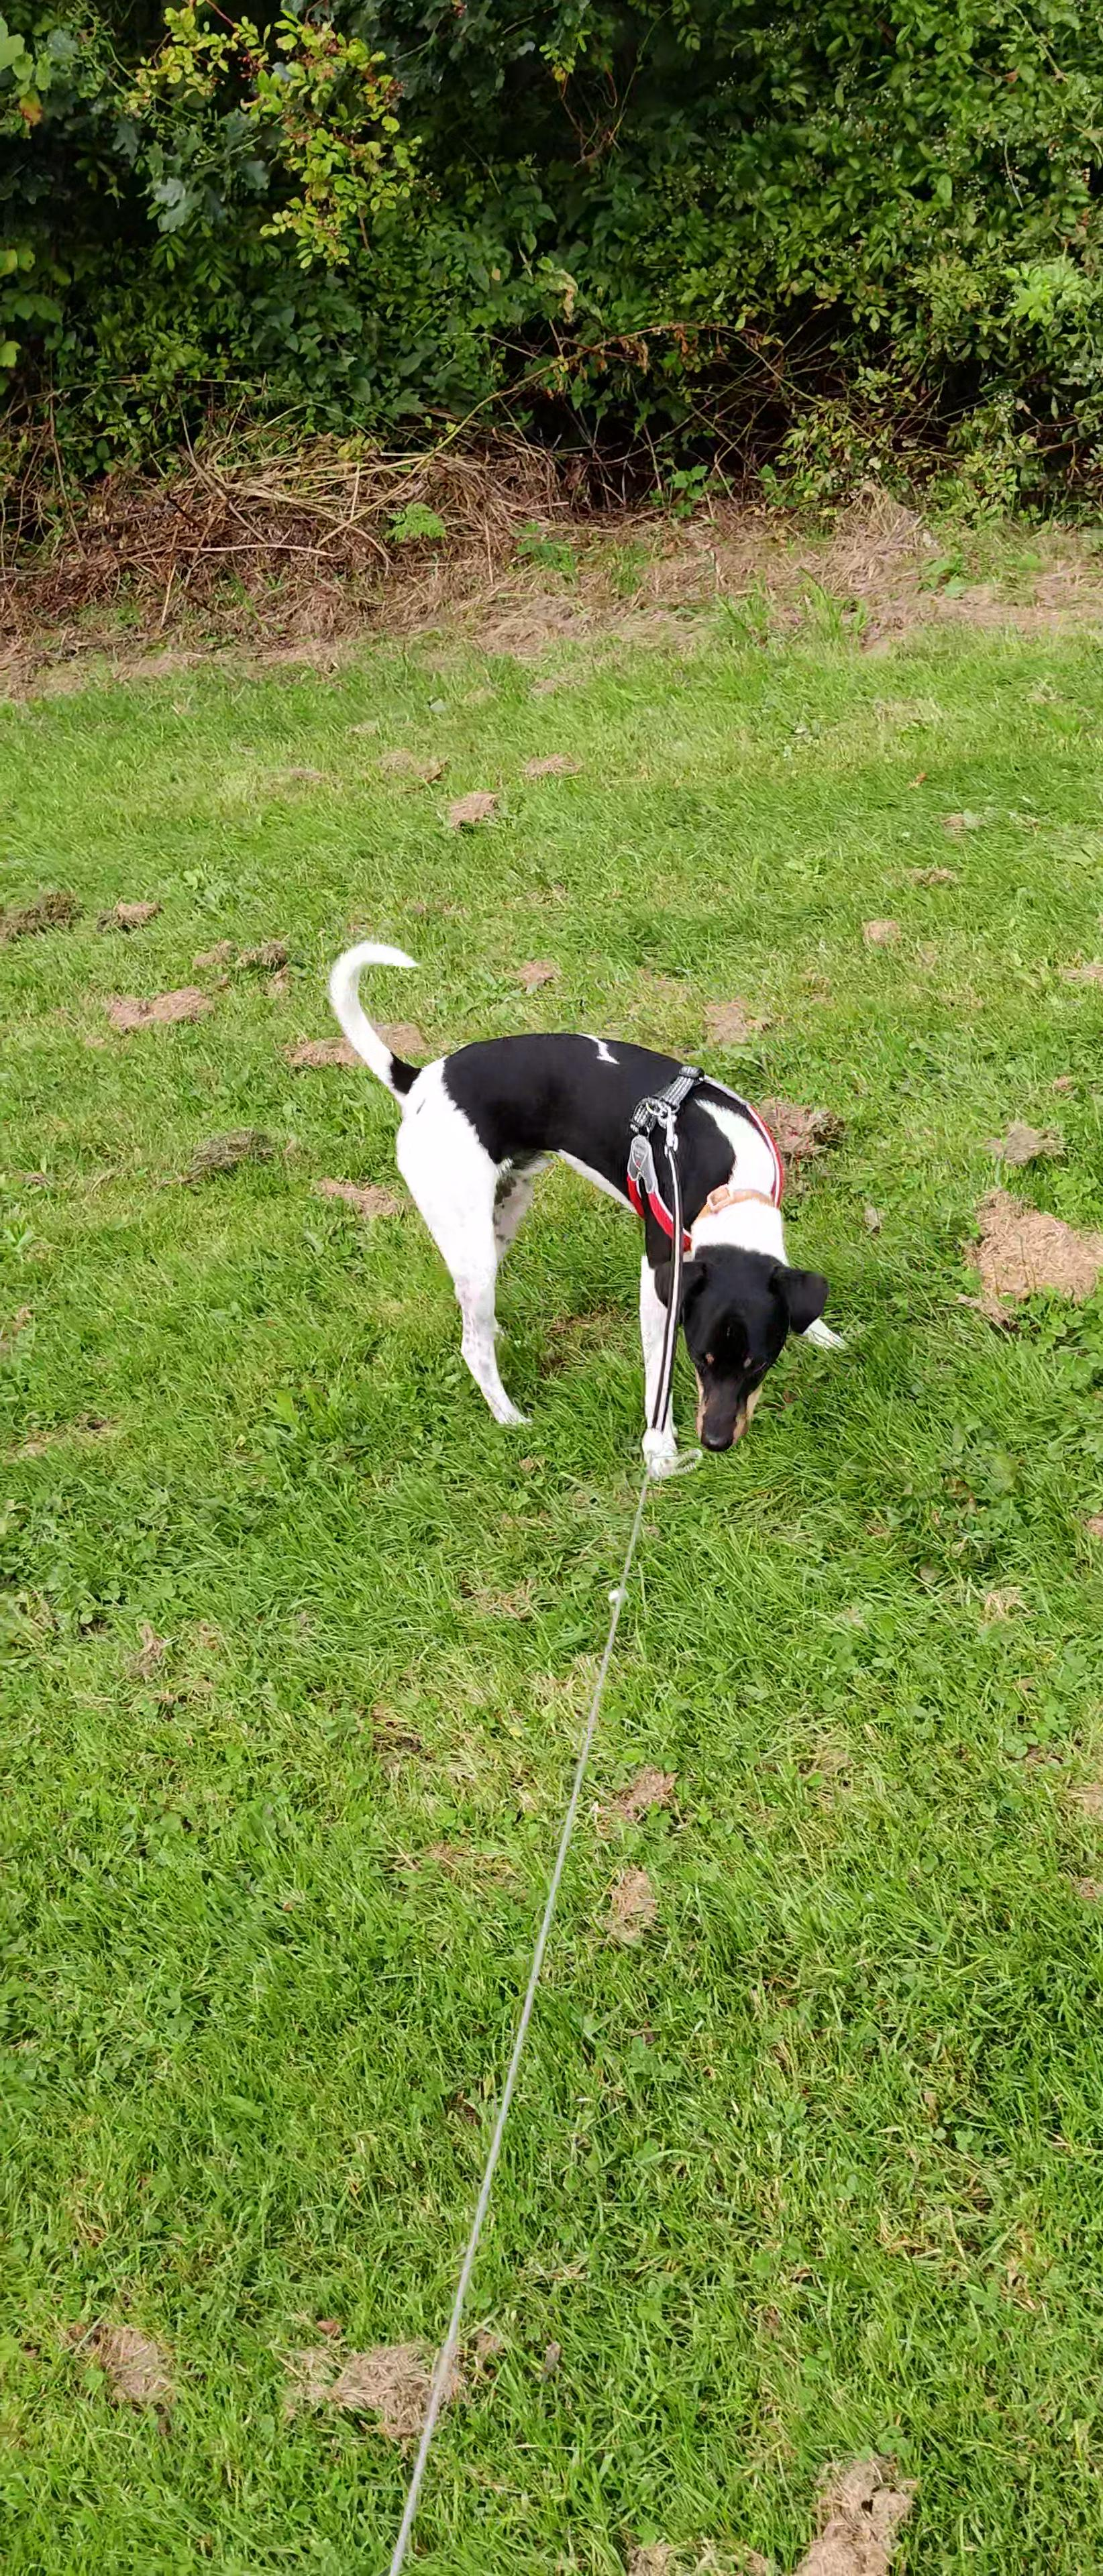Dog: (314, 918, 870, 1503)
